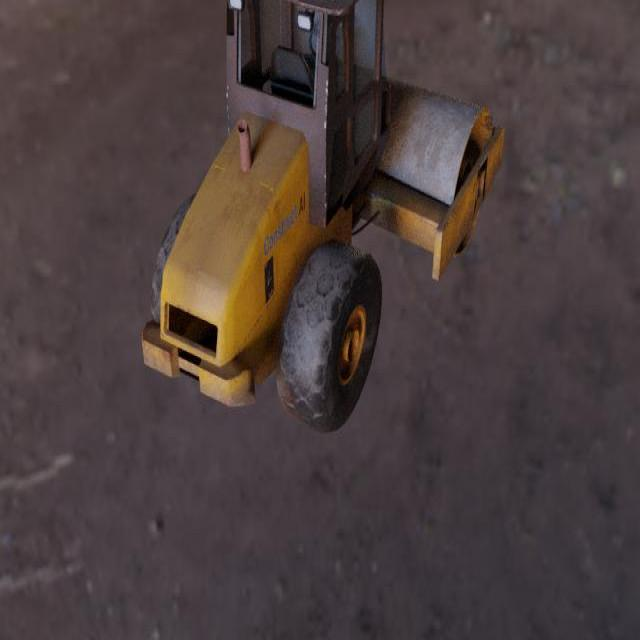Roller: (141, 0, 505, 435)
